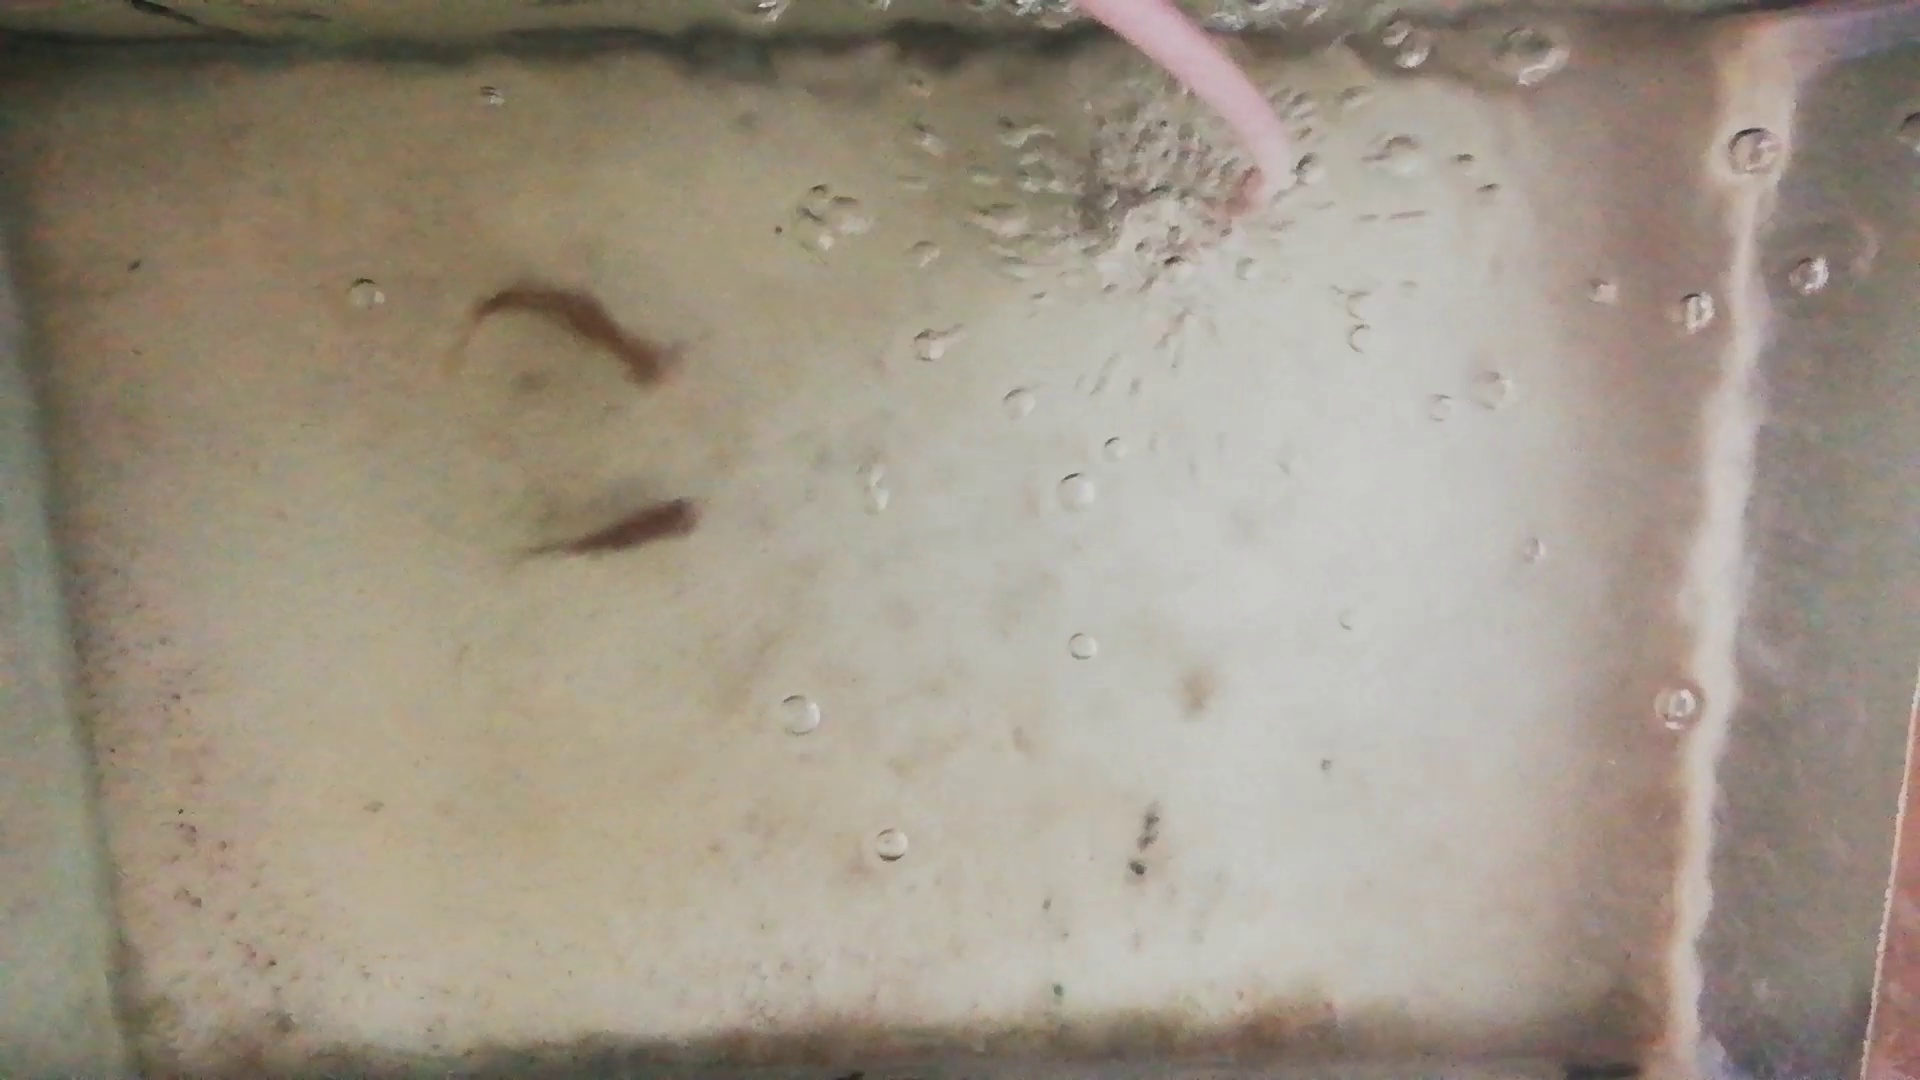fish: (462, 286, 669, 389), (531, 497, 709, 556)
